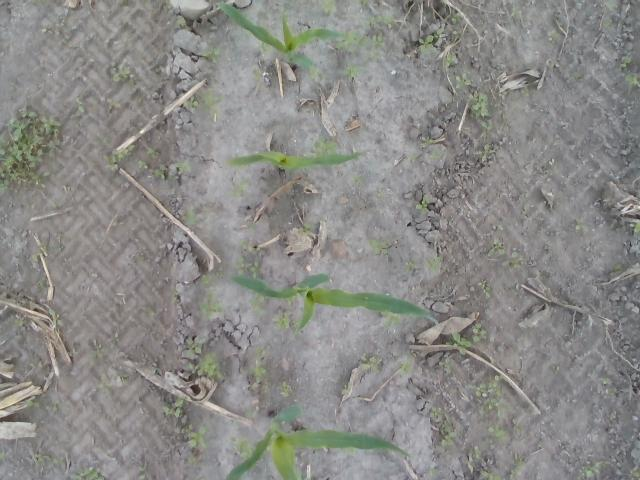Maize: (225, 402, 412, 480), (229, 272, 438, 338), (208, 0, 346, 74), (224, 150, 362, 171)
Weeds: (0, 102, 64, 194), (176, 333, 226, 382), (465, 373, 509, 417), (187, 88, 226, 122), (432, 406, 462, 448), (466, 446, 502, 480), (246, 348, 270, 392), (103, 143, 137, 171), (336, 30, 386, 48), (154, 160, 192, 183), (199, 287, 224, 320), (615, 55, 640, 88), (418, 27, 445, 55), (468, 90, 492, 120), (235, 255, 261, 280), (270, 311, 298, 334), (230, 437, 254, 462), (68, 465, 107, 480), (184, 424, 207, 448), (160, 396, 184, 418), (446, 334, 472, 354), (312, 136, 337, 156), (367, 14, 398, 30), (510, 453, 528, 480), (503, 248, 525, 270), (248, 292, 268, 315), (487, 424, 511, 441), (470, 322, 488, 344), (202, 47, 224, 65), (382, 311, 402, 330), (368, 239, 391, 255), (486, 238, 505, 256), (110, 63, 130, 80), (581, 460, 602, 476), (339, 62, 360, 78), (425, 254, 442, 273), (233, 180, 250, 199), (308, 64, 327, 81), (359, 354, 381, 368), (201, 270, 223, 284), (455, 73, 473, 90), (35, 454, 65, 464), (416, 196, 432, 214), (480, 142, 494, 162), (184, 208, 200, 225), (320, 0, 338, 15), (363, 50, 383, 63), (297, 223, 317, 235), (98, 383, 114, 398), (547, 28, 561, 45), (481, 278, 492, 297), (399, 361, 413, 375), (402, 259, 416, 273), (50, 312, 64, 326), (350, 174, 369, 184), (432, 148, 446, 161), (438, 358, 456, 368), (629, 464, 640, 480), (136, 158, 148, 172), (107, 98, 121, 110), (26, 398, 42, 408), (184, 456, 200, 466), (448, 14, 464, 24), (175, 14, 188, 26), (446, 52, 458, 65), (602, 16, 613, 30), (252, 66, 263, 80), (255, 41, 272, 50), (478, 121, 496, 129), (576, 222, 592, 230), (280, 383, 290, 395), (421, 136, 433, 146), (239, 238, 249, 250), (12, 318, 24, 328), (117, 374, 129, 384), (286, 294, 298, 304), (138, 466, 146, 480), (629, 222, 640, 232), (341, 383, 352, 393), (519, 87, 530, 97), (600, 376, 610, 386), (0, 450, 7, 463), (450, 30, 460, 39), (376, 188, 385, 198), (344, 448, 358, 454), (244, 409, 256, 416), (358, 0, 370, 7), (206, 11, 216, 19), (511, 8, 518, 17), (428, 468, 434, 478), (409, 352, 417, 359), (264, 444, 271, 452), (408, 154, 417, 160)
